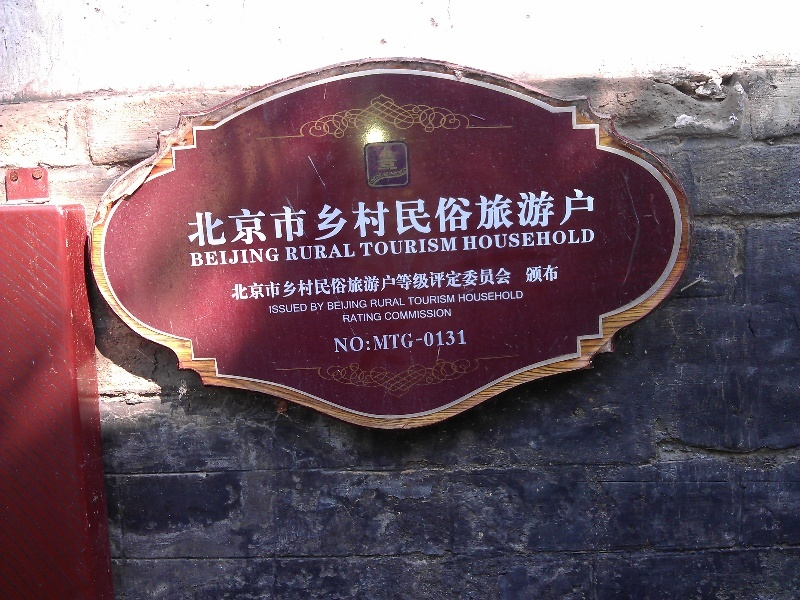text: (193, 186, 208, 250), (209, 186, 224, 250), (225, 186, 240, 250), (241, 186, 256, 250), (257, 186, 272, 250), (273, 186, 288, 250), (289, 186, 304, 250), (305, 186, 320, 250), (321, 186, 336, 250), (337, 186, 352, 250), (353, 186, 368, 250), (369, 186, 384, 250), (385, 186, 400, 250), (401, 186, 416, 250), (417, 186, 432, 250), (433, 186, 448, 250), (449, 186, 464, 250), (465, 186, 480, 250), (481, 186, 496, 250), (497, 186, 512, 250), (513, 186, 528, 250), (529, 186, 544, 250), (545, 186, 560, 250), (561, 186, 576, 250), (577, 186, 592, 250), (497, 264, 513, 305), (241, 264, 256, 305), (257, 264, 272, 305), (273, 264, 288, 305), (289, 264, 304, 305), (305, 264, 320, 305), (321, 264, 336, 305), (337, 264, 352, 305), (353, 264, 368, 305), (369, 264, 384, 305), (385, 264, 400, 305), (401, 264, 416, 305), (417, 264, 432, 305), (433, 264, 448, 305), (449, 264, 464, 305), (465, 264, 480, 305), (481, 264, 496, 305), (593, 186, 602, 250), (184, 186, 192, 250), (231, 264, 240, 305), (337, 330, 352, 354), (353, 330, 368, 354), (369, 330, 384, 354), (385, 330, 400, 354), (401, 330, 416, 354), (417, 330, 432, 354), (433, 330, 448, 354), (449, 330, 464, 354), (465, 228, 480, 252), (481, 228, 496, 252), (497, 228, 512, 252), (513, 228, 528, 252), (529, 228, 544, 252), (545, 228, 560, 252), (561, 228, 576, 252), (577, 228, 592, 252), (193, 246, 208, 269), (209, 246, 224, 269), (225, 246, 240, 269), (241, 246, 256, 269), (257, 246, 272, 269), (529, 262, 544, 285), (545, 262, 560, 285), (369, 237, 384, 259), (385, 237, 400, 259), (401, 237, 416, 259), (417, 237, 432, 259), (433, 237, 448, 259), (289, 243, 304, 261), (305, 243, 320, 261), (321, 243, 336, 261), (337, 243, 352, 261), (449, 237, 459, 259), (273, 302, 288, 316), (289, 302, 304, 316), (465, 290, 480, 304), (481, 290, 496, 304), (497, 290, 512, 304), (385, 308, 400, 322), (401, 308, 416, 322), (417, 308, 432, 322), (433, 308, 448, 322), (273, 246, 282, 269), (353, 312, 368, 325), (385, 297, 400, 310), (417, 294, 432, 307), (433, 294, 448, 307), (370, 297, 384, 310), (360, 237, 368, 259), (369, 312, 382, 325), (513, 290, 525, 304), (337, 300, 352, 311), (353, 300, 368, 311), (343, 312, 352, 325), (408, 294, 416, 307), (310, 302, 320, 312), (327, 300, 336, 311), (524, 262, 528, 285), (449, 294, 456, 307), (458, 290, 464, 304), (333, 330, 336, 354), (353, 243, 357, 261), (461, 228, 464, 252), (593, 228, 596, 252), (449, 308, 454, 322), (189, 246, 192, 269), (401, 297, 406, 310), (268, 302, 272, 316), (285, 243, 288, 261), (305, 302, 308, 316), (321, 302, 325, 312), (465, 330, 466, 354)
